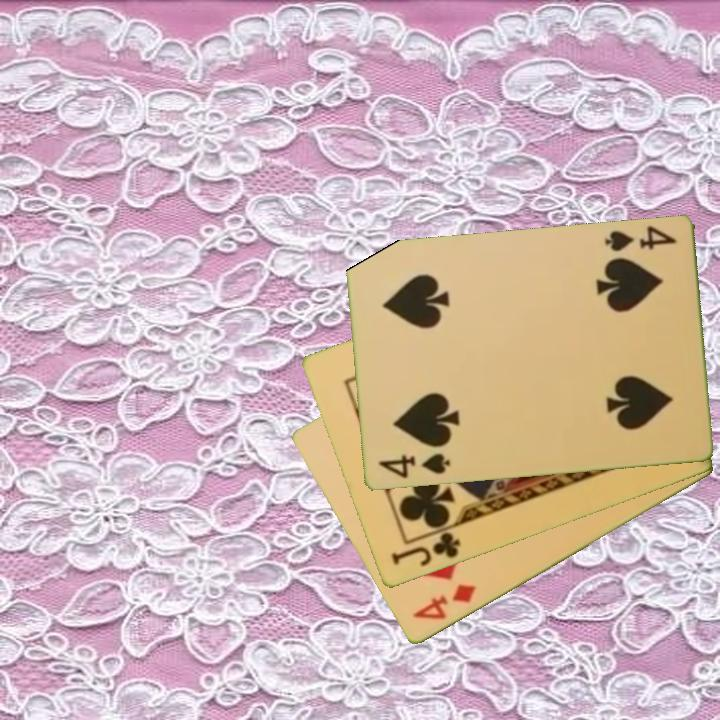4d: (409, 581, 479, 624)
4s: (600, 222, 680, 255), (375, 450, 453, 482)
Jc: (387, 529, 463, 570)
